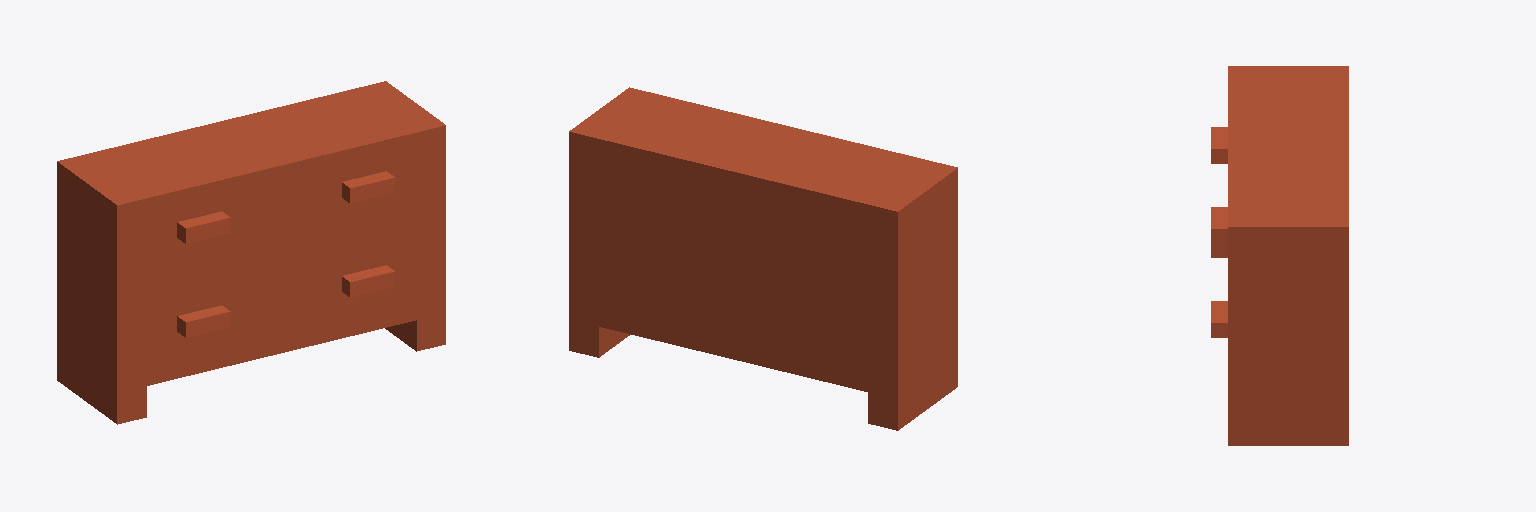
Rendered from Dresser.obj.
The picture shows the model from 3 angles: view 1: azimuth 30°, elevation 25°; view 2: azimuth 150°, elevation 25°; view 3: azimuth 270°, elevation 25°; orthographic projection.
Visible parts, largest first — view 1: mergedBlocks; view 2: mergedBlocks; view 3: mergedBlocks.
Boxes of the visible parts, box(x1,y1,x2,y2) form: mergedBlocks: box(57, 81, 445, 424); mergedBlocks: box(569, 87, 957, 430); mergedBlocks: box(1211, 66, 1348, 445).
Size of the model in its own units: 0.5544 by 0.3528 by 0.2016.